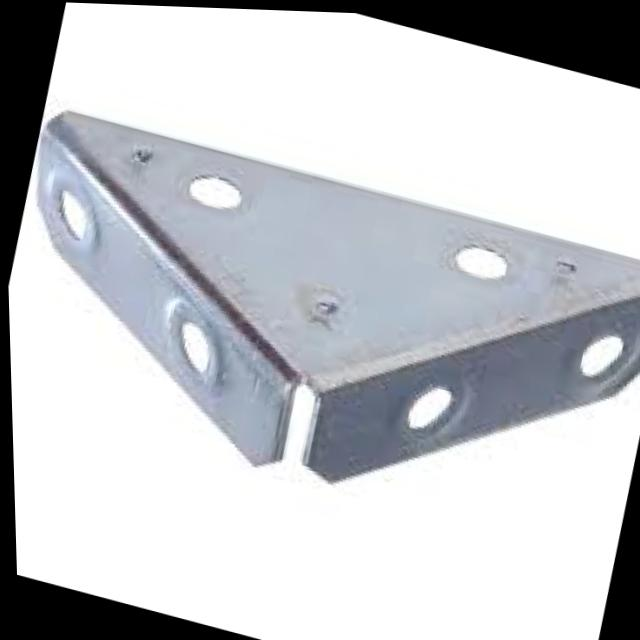holes: (153, 300, 228, 383), (39, 180, 106, 250), (397, 372, 463, 437), (443, 227, 515, 286), (571, 319, 625, 380), (180, 164, 243, 211)
